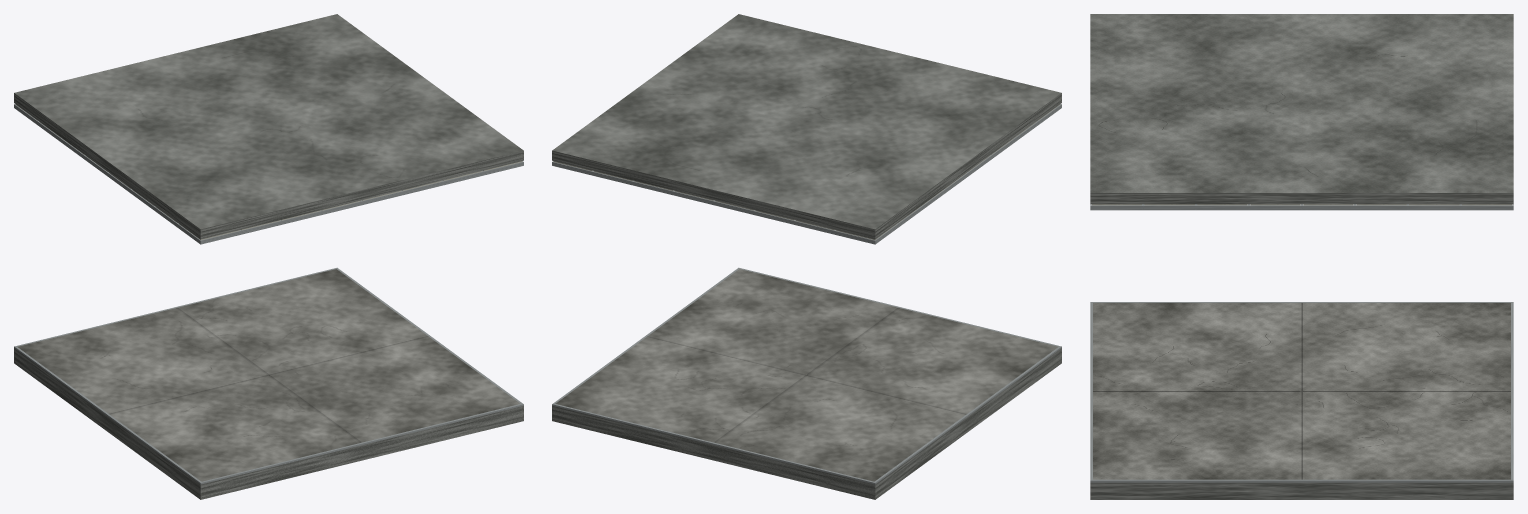
Rendered from PZ_Floor_Ceiling_Kit_4m.glb.
The picture shows the model from 3 angles, left to right: view 1: azimuth 30°, elevation 25°; view 2: azimuth 150°, elevation 25°; view 3: azimuth 270°, elevation 25°; orthographic projection. The views are drawn at different scales.
Parts seen in each view (by area): view 1: Ceiling_Structural_Back, Floor_Concrete_Finish, Floor_Concrete_StructuralCore, Floor_Edge_Trim_Galvanized, Ceiling_TGrid_Rails_Z, Ceiling_TGrid_Rails_X, Ceiling_Acoustic_64_Panels; view 2: Ceiling_Structural_Back, Floor_Concrete_Finish, Floor_Concrete_StructuralCore, Floor_Edge_Trim_Galvanized, Ceiling_TGrid_Rails_Z, Ceiling_TGrid_Rails_X, Ceiling_Acoustic_64_Panels; view 3: Ceiling_Structural_Back, Floor_Concrete_Finish, Floor_Concrete_StructuralCore, Floor_Edge_Trim_Galvanized, Ceiling_TGrid_Rails_X, Ceiling_Acoustic_64_Panels.
Boxes of the visible parts, box(x1,y1,x2,y2) form: Ceiling_Structural_Back: box(14, 14, 523, 239); Floor_Concrete_Finish: box(17, 269, 520, 481); Floor_Concrete_StructuralCore: box(14, 348, 523, 499); Floor_Edge_Trim_Galvanized: box(14, 267, 523, 484); Ceiling_TGrid_Rails_Z: box(14, 104, 522, 244); Ceiling_TGrid_Rails_X: box(14, 104, 523, 244); Ceiling_Acoustic_64_Panels: box(16, 104, 522, 240); Ceiling_Structural_Back: box(552, 14, 1061, 239); Floor_Concrete_Finish: box(555, 269, 1058, 481); Floor_Concrete_StructuralCore: box(552, 348, 1061, 499); Floor_Edge_Trim_Galvanized: box(552, 267, 1061, 484); Ceiling_TGrid_Rails_Z: box(552, 104, 1060, 244); Ceiling_TGrid_Rails_X: box(552, 104, 1061, 244); Ceiling_Acoustic_64_Panels: box(553, 104, 1059, 240); Ceiling_Structural_Back: box(1090, 14, 1513, 204); Floor_Concrete_Finish: box(1093, 303, 1510, 479); Floor_Concrete_StructuralCore: box(1090, 482, 1513, 499); Floor_Edge_Trim_Galvanized: box(1090, 302, 1513, 482); Ceiling_TGrid_Rails_X: box(1090, 205, 1513, 210); Ceiling_Acoustic_64_Panels: box(1091, 204, 1512, 205).
Size of the model in its own units: 4 by 3.2 by 4.
4 materials, 4 textured.
